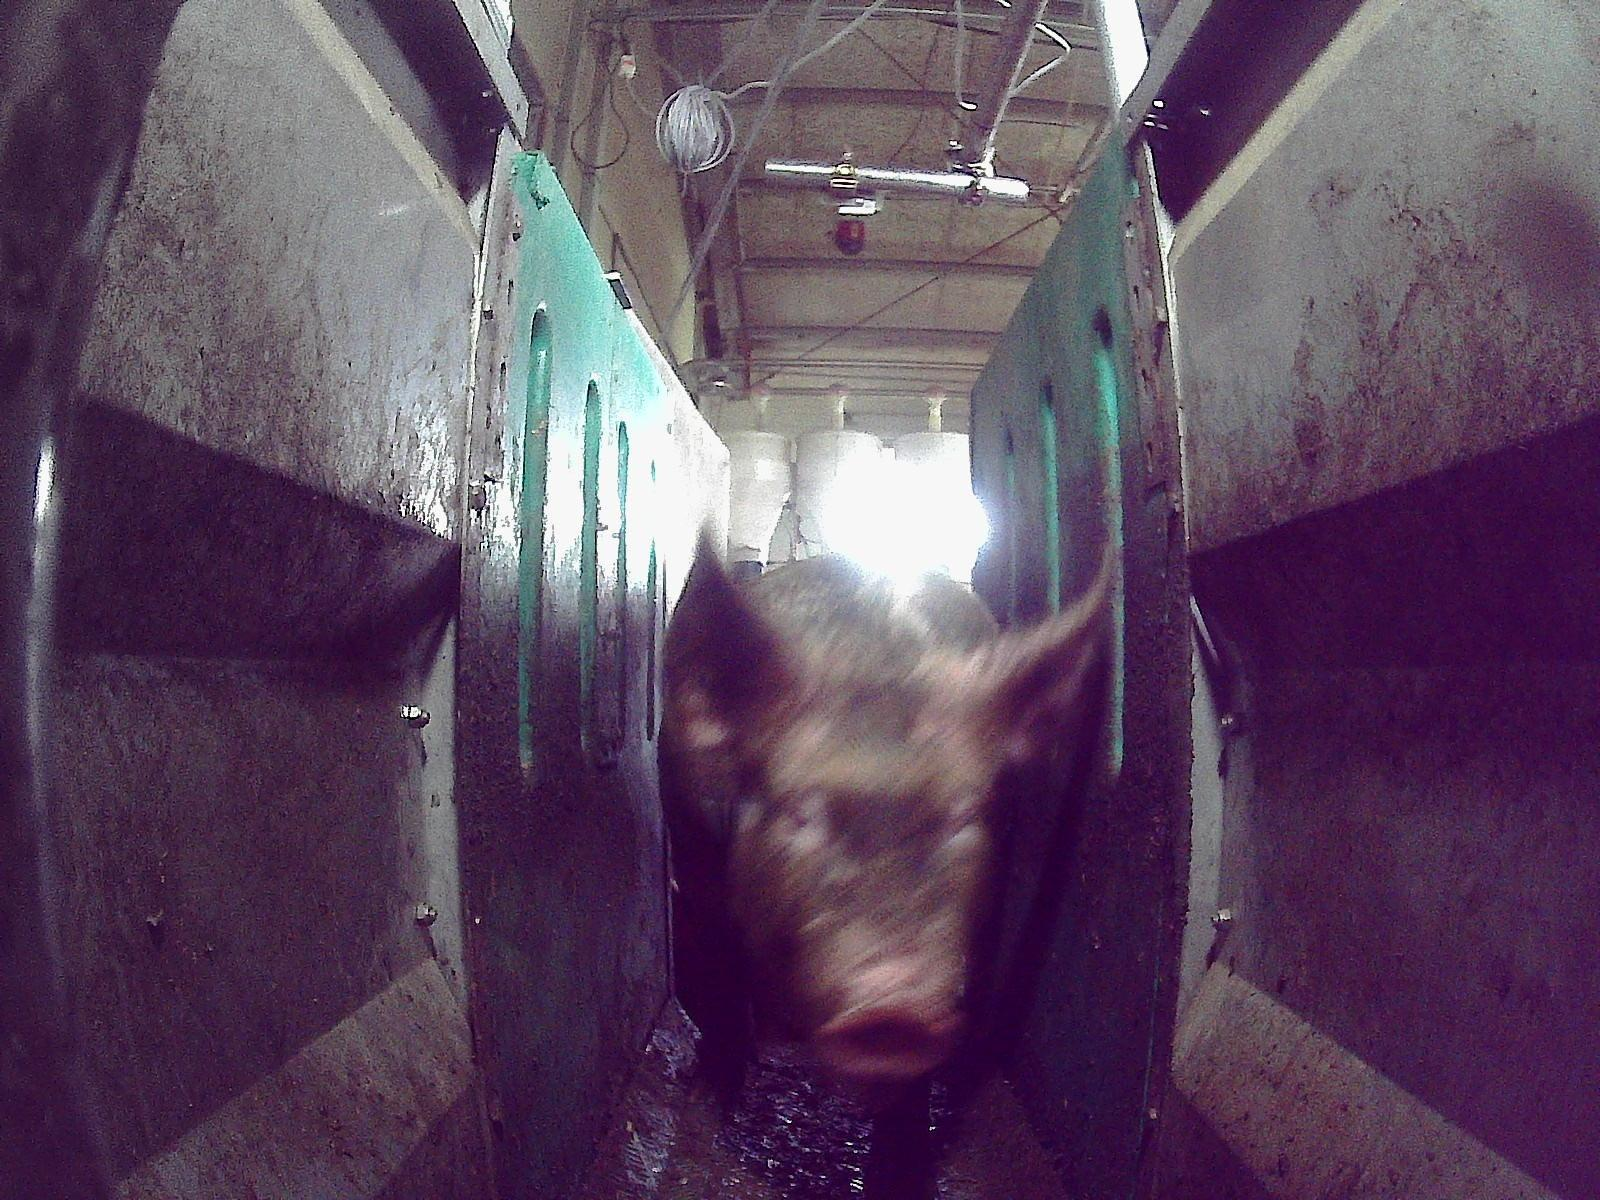Face: (723, 661, 996, 1087)
